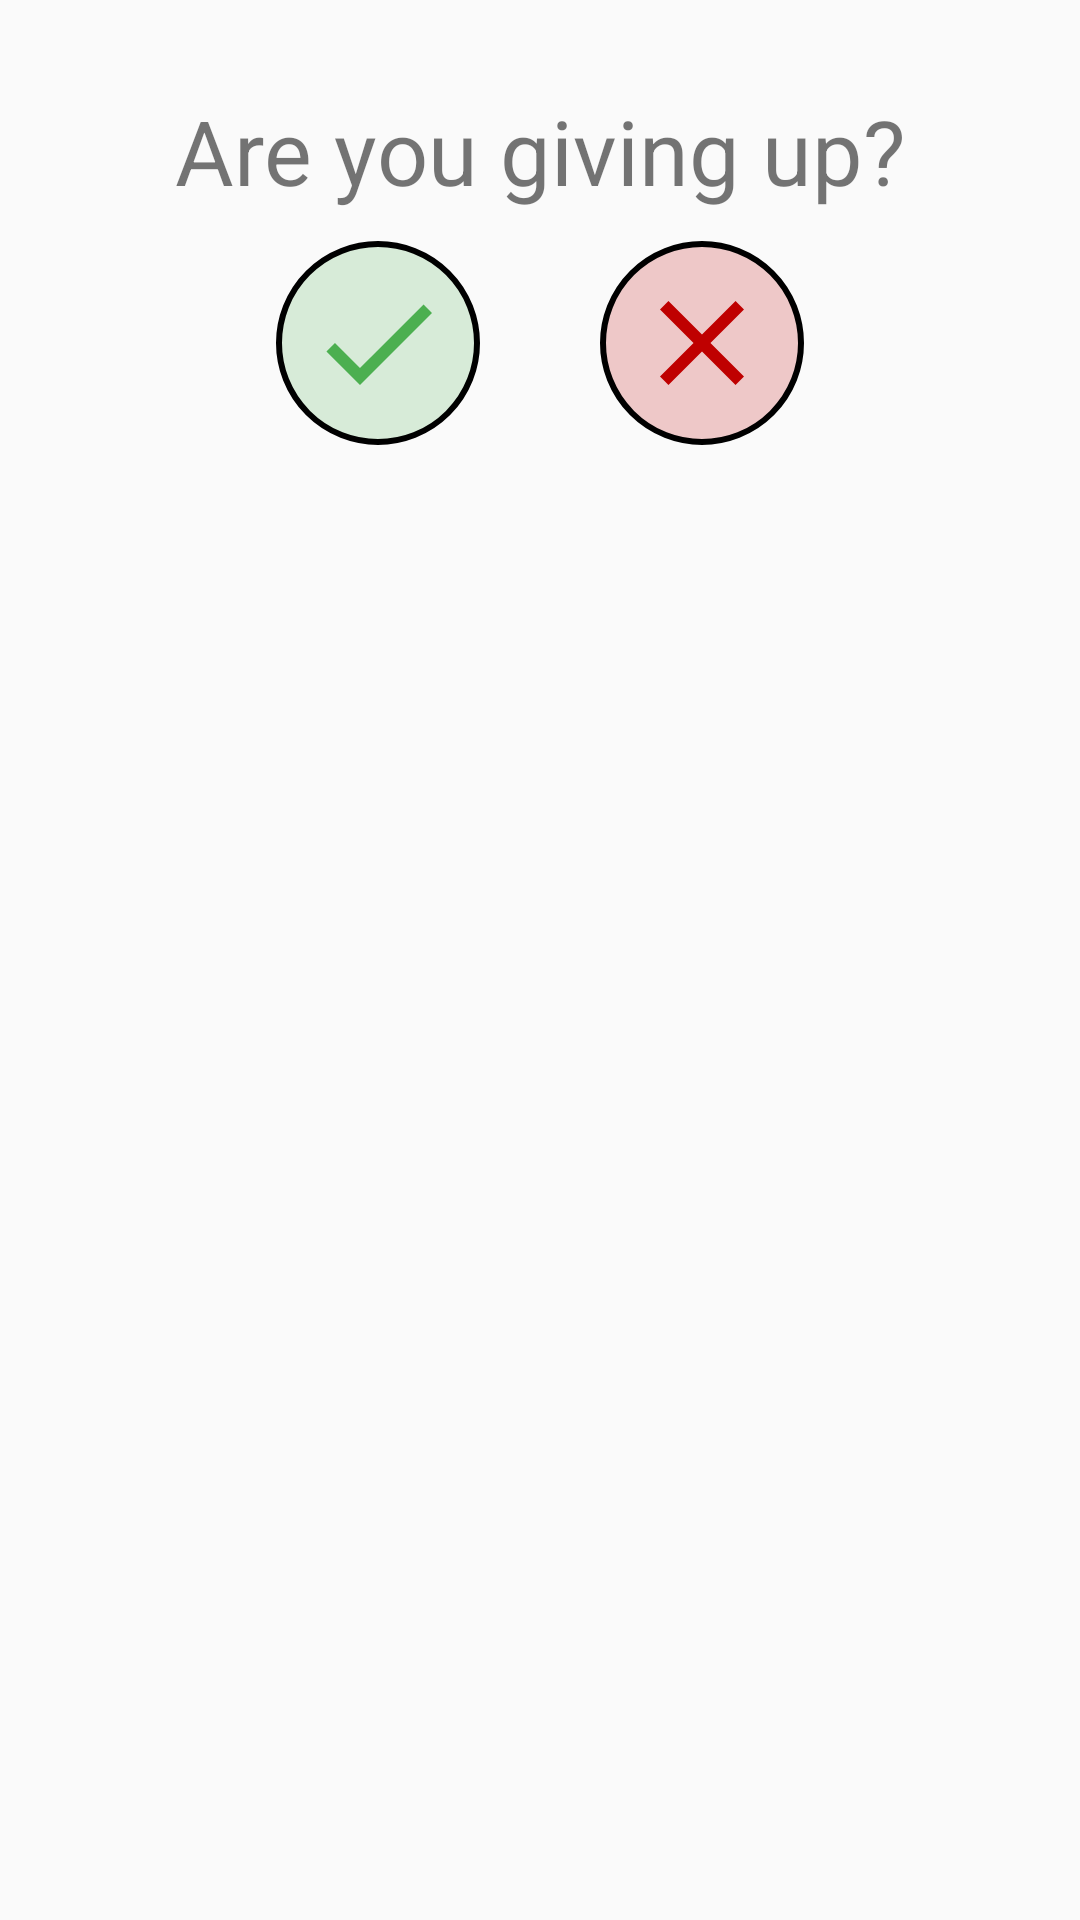

Icon click points for this 1080x1920 phone screenshot, format [x,y]:
yes: [378,343]
